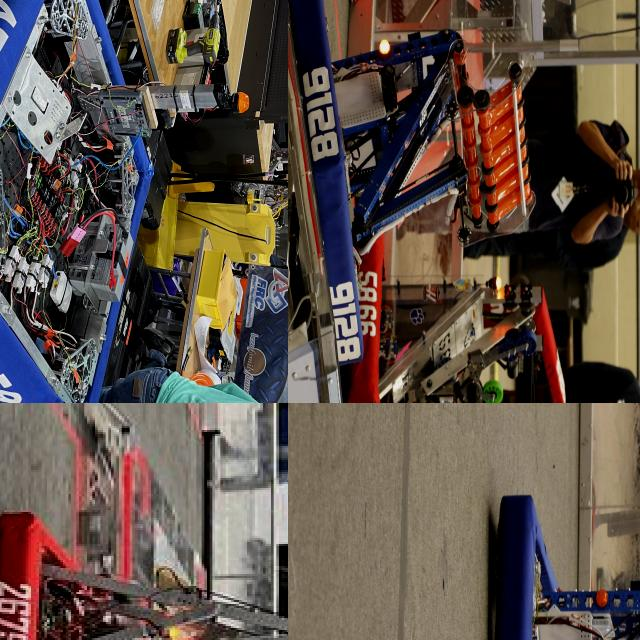FRC-Robots: (0, 0, 206, 403), (308, 0, 518, 346), (332, 239, 580, 403), (417, 468, 640, 640), (0, 508, 288, 640)
